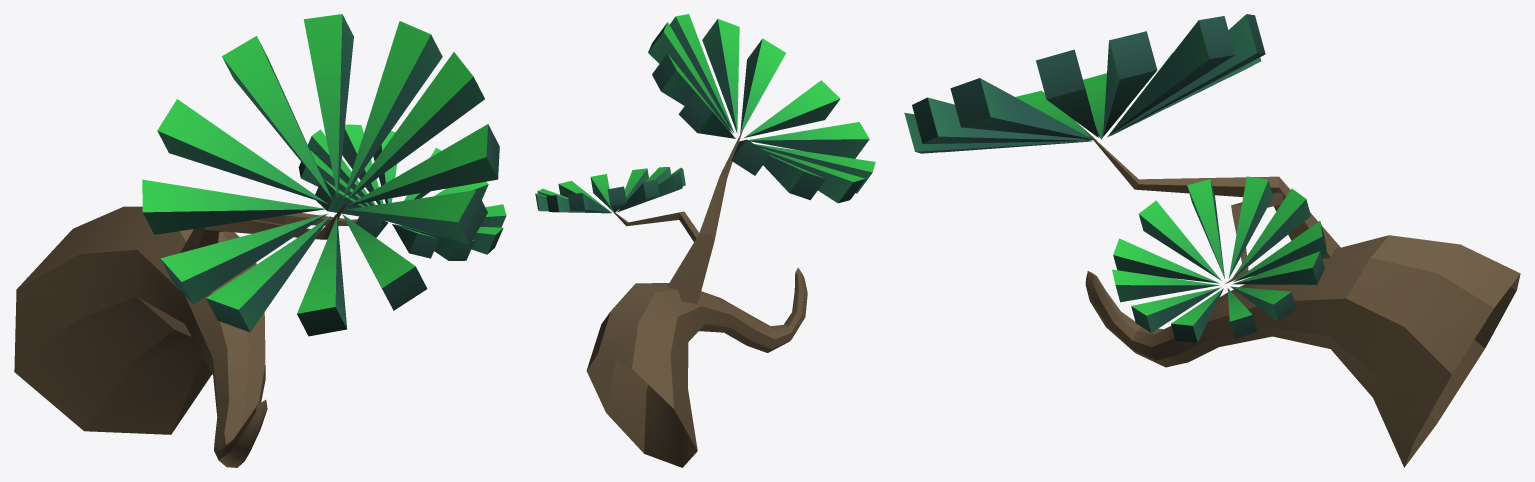
The model's file is branch_3.001.glb.
3 views of the same model, side by side, from view 1: azimuth 30°, elevation 25°; view 2: azimuth 150°, elevation 25°; view 3: azimuth 270°, elevation 25° (orthographic). The views are drawn at different scales.
Visible parts, largest first — view 1: branch_3.001; view 2: branch_3.001; view 3: branch_3.001.
Part boxes in pixels (box(x1,y1,x2,y2)): branch_3.001: box(14, 14, 506, 467); branch_3.001: box(535, 14, 875, 467); branch_3.001: box(904, 14, 1520, 467).
Size of the model in its own units: 1.45 by 1.74 by 2.
1 material, 1 textured.
